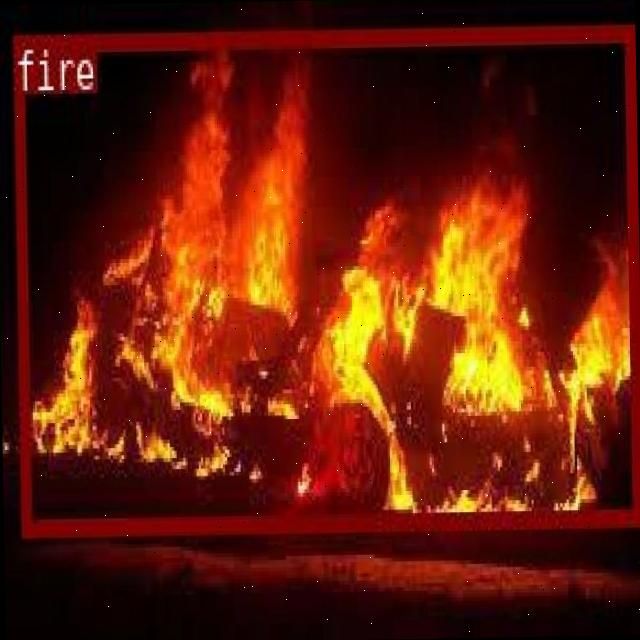fire: (11, 23, 640, 530)
